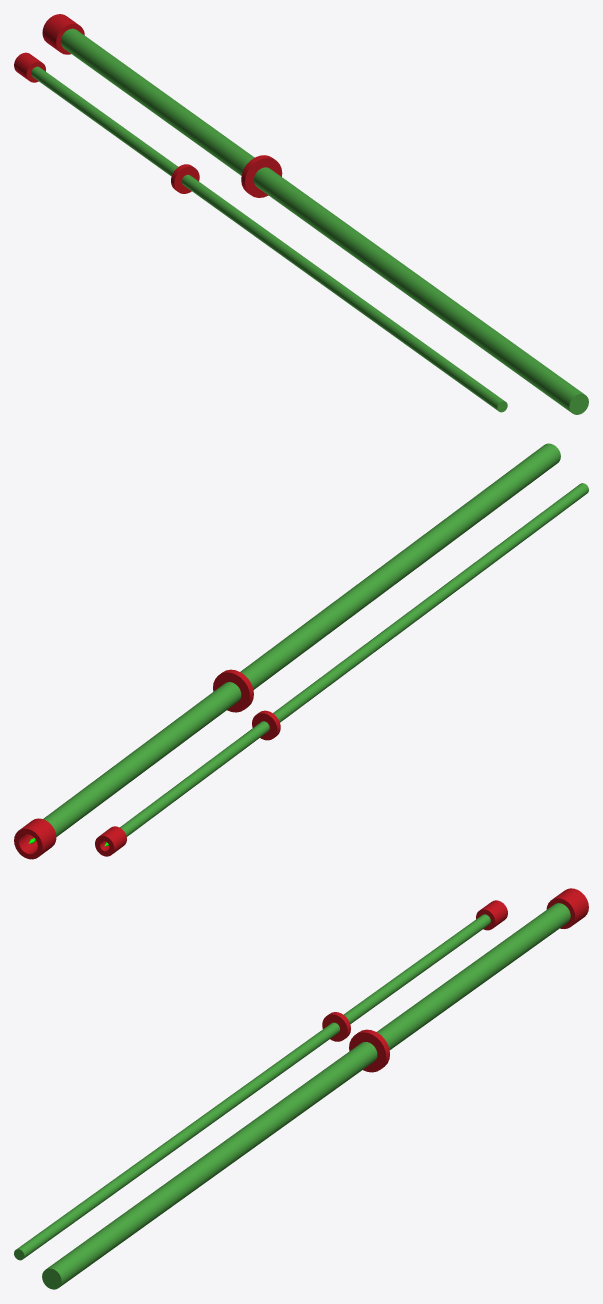
File: Phase40d.fbx
3 renders of one model, top to bottom at view 1: azimuth 30°, elevation 25°; view 2: azimuth 150°, elevation 25°; view 3: azimuth 330°, elevation 25°, orthographic.
Parts seen in each view (by area): view 1: Типы трубопроводов:Труба:282126, Типы трубопроводов:Труба:256991 (×2), Типы трубопроводов:Труба:282538, RAL3020, Фланец_Тип1:Фланец стальной:256966; view 2: Типы трубопроводов:Труба:282126, Типы трубопроводов:Труба:256991 (×2), Типы трубопроводов:Труба:282538, Фланец_Тип1:Фланец стальной:265165, RAL3020; view 3: Типы трубопроводов:Труба:282126, Типы трубопроводов:Труба:256991 (×2), Типы трубопроводов:Труба:282538, RAL3020, Фланец_Тип1:Фланец стальной:256966.
Part boxes in pixels (bbox=[...]): Типы трубопроводов:Труба:282126: bbox=[253, 167, 588, 414]; Типы трубопроводов:Труба:256991 (×2): bbox=[31, 28, 254, 176]; Типы трубопроводов:Труба:282538: bbox=[181, 174, 507, 412]; RAL3020: bbox=[243, 156, 282, 197]; Фланец_Тип1:Фланец стальной:256966: bbox=[49, 19, 84, 54]; Типы трубопроводов:Труба:282126: bbox=[240, 443, 560, 689]; Типы трубопроводов:Труба:256991 (×2): bbox=[43, 682, 269, 836]; Типы трубопроводов:Труба:282538: bbox=[273, 483, 588, 722]; Фланец_Тип1:Фланец стальной:265165: bbox=[14, 823, 49, 859]; RAL3020: bbox=[213, 671, 251, 712]; Типы трубопроводов:Труба:282126: bbox=[42, 1042, 377, 1289]; Типы трубопроводов:Труба:256991 (×2): bbox=[343, 903, 570, 1049]; Типы трубопроводов:Труба:282538: bbox=[14, 1022, 339, 1260]; RAL3020: bbox=[349, 1031, 388, 1072]; Фланец_Тип1:Фланец стальной:256966: bbox=[546, 893, 581, 928].
Bounding box in the file's own units: 472 × 4967 × 205.
